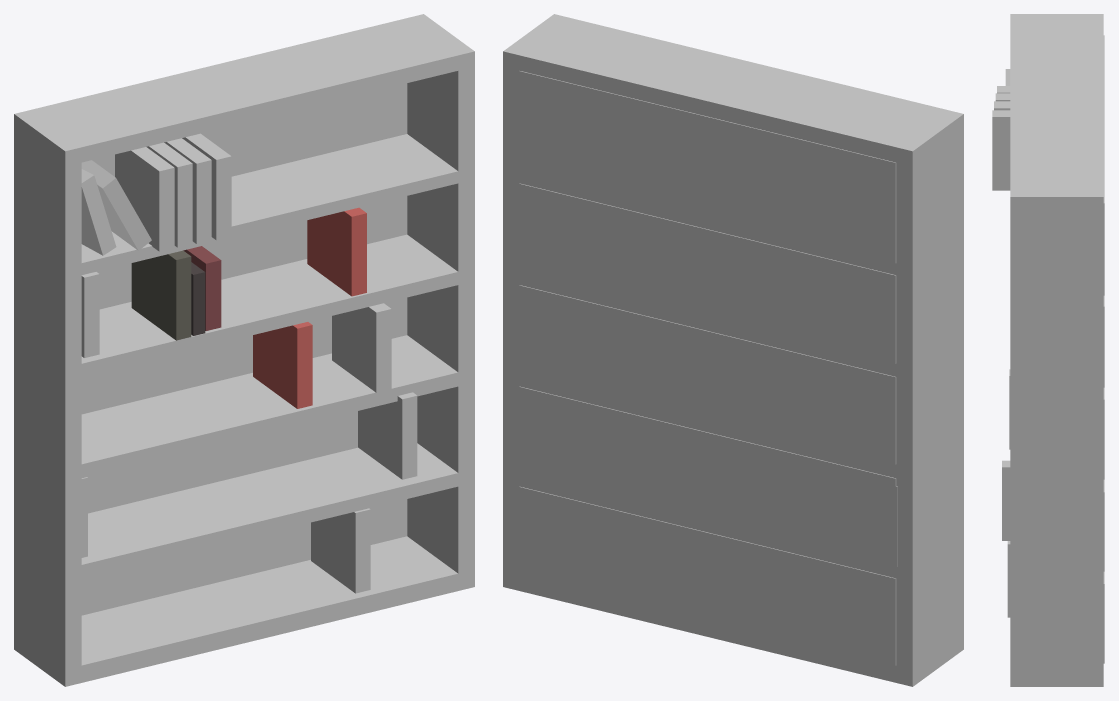
File: bookcase_text.fbx
3 views of the same model, side by side, from view 1: azimuth 30°, elevation 25°; view 2: azimuth 150°, elevation 25°; view 3: azimuth 270°, elevation 25° (orthographic). The views are drawn at different scales.
Visible parts, largest first — view 1: Cube, Cube_001, Cube_009, Cube_005, Cube_016, Cube_015, Cube_013, Cube_010, Cube_004, Cube_008, Cube_007, Cube_006 (+4 smaller); view 2: Cube; view 3: Cube, Cube_008, Cube_010, Cube_013.
Part boxes in pixels (left/top/right/bottom): Cube: left=14, top=14, right=474, bottom=686; Cube_001: left=131, top=250, right=191, bottom=340; Cube_009: left=332, top=303, right=391, bottom=392; Cube_005: left=115, top=147, right=174, bottom=251; Cube_016: left=307, top=207, right=366, bottom=296; Cube_015: left=253, top=322, right=312, bottom=408; Cube_013: left=311, top=508, right=370, bottom=593; Cube_010: left=358, top=392, right=417, bottom=479; Cube_004: left=81, top=160, right=151, bottom=250; Cube_008: left=182, top=133, right=231, bottom=240; Cube_007: left=164, top=138, right=211, bottom=243; Cube_006: left=146, top=142, right=192, bottom=247; Cube: left=503, top=14, right=963, bottom=686; Cube: left=1010, top=14, right=1104, bottom=686; Cube_008: left=992, top=110, right=1010, bottom=190; Cube_010: left=1002, top=460, right=1010, bottom=540; Cube_013: left=1007, top=541, right=1010, bottom=617.
Size of the model in its own units: 10.65 by 13.31 by 2.76.
